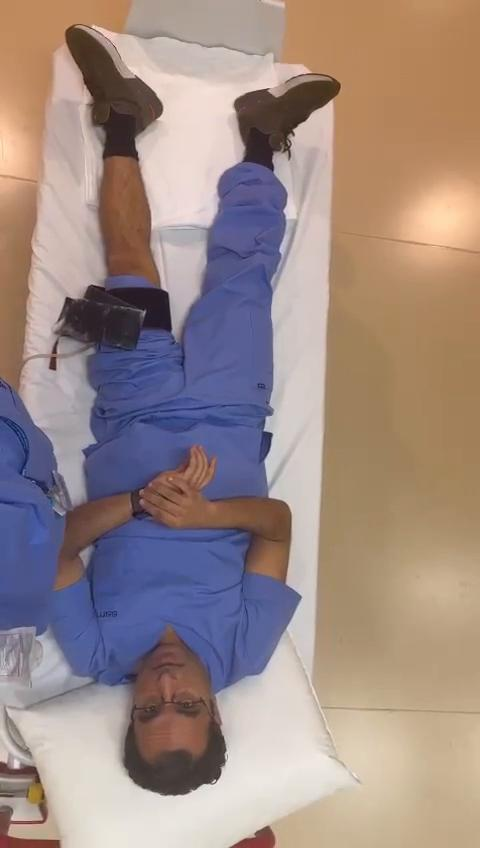patient: (55, 25, 340, 795)
tourniquet: (56, 285, 171, 349)
